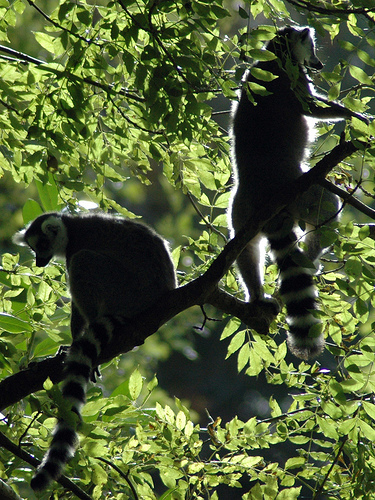cat: (15, 207, 181, 497), (226, 22, 341, 362)
